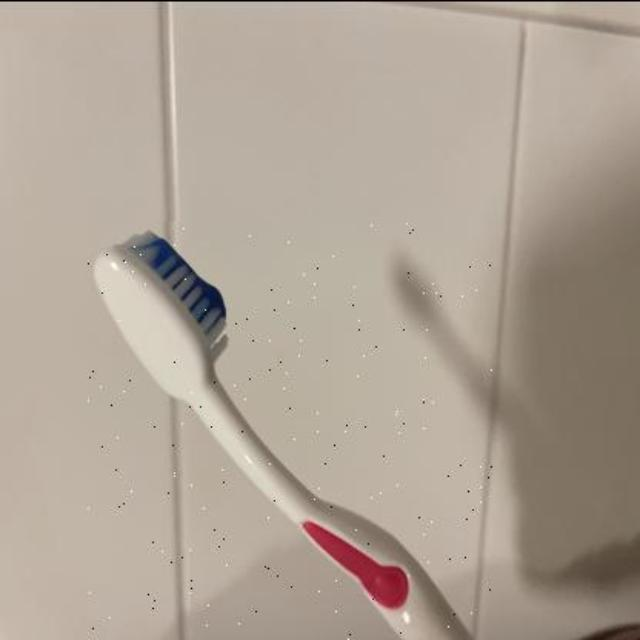toothbrush: (89, 220, 495, 640)
